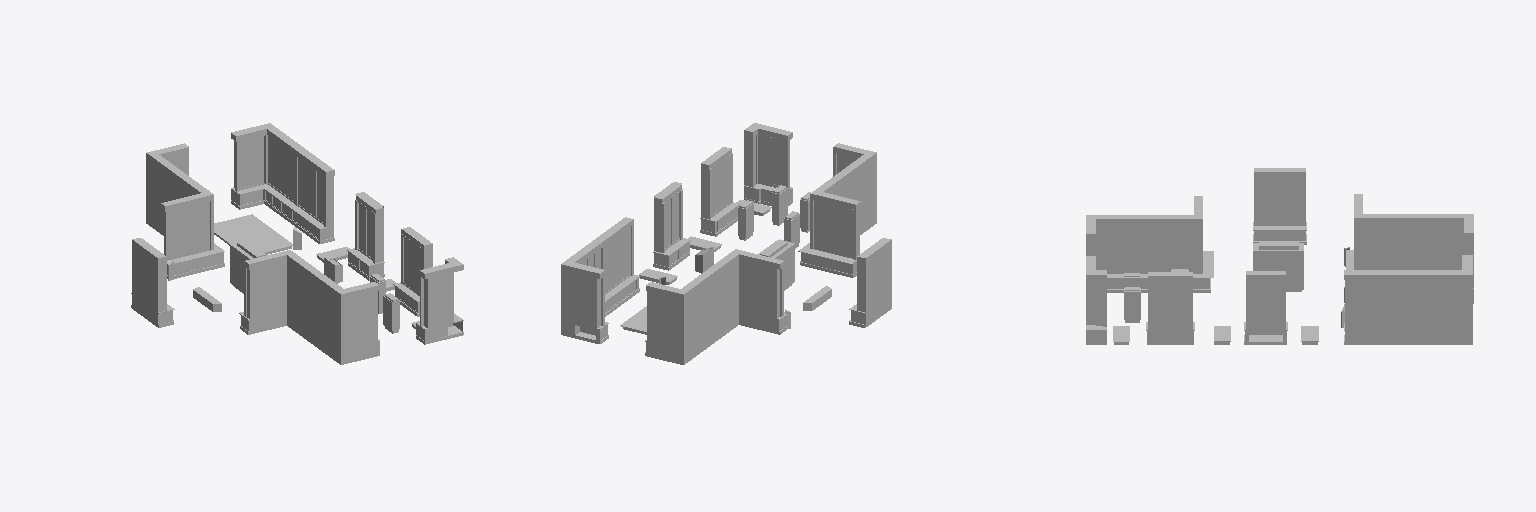
File: gruppo11B.obj
3 views of the same model, side by side, from view 1: azimuth 30°, elevation 25°; view 2: azimuth 150°, elevation 25°; view 3: azimuth 270°, elevation 25° (orthographic).
Size of the model in its own units: 14.57 by 4.45 by 22.08.